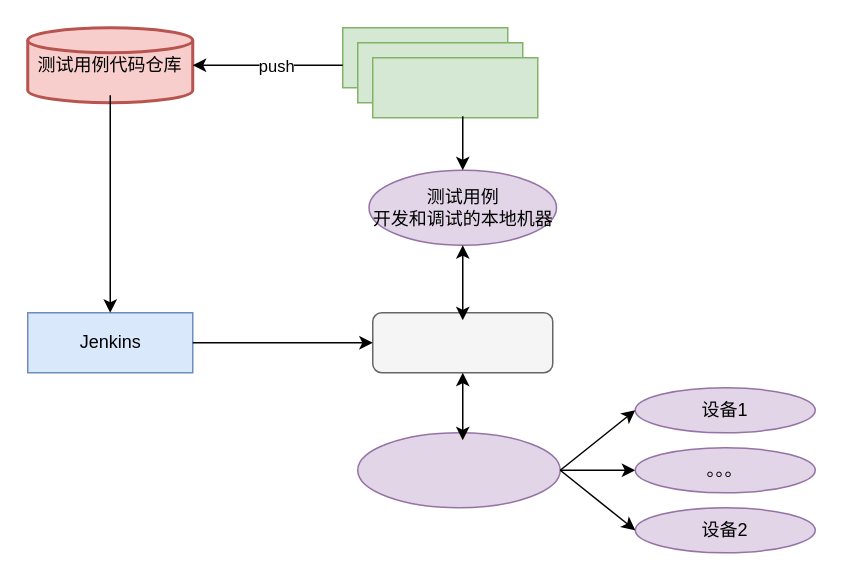
This 842x579 diagram has some shape labels left out. The centre of each missing label's shape, as x and y in pixels:
测试用例: [454,87]
被测系统（SUT）: [462,342]
设备 Hub: [458,469]
